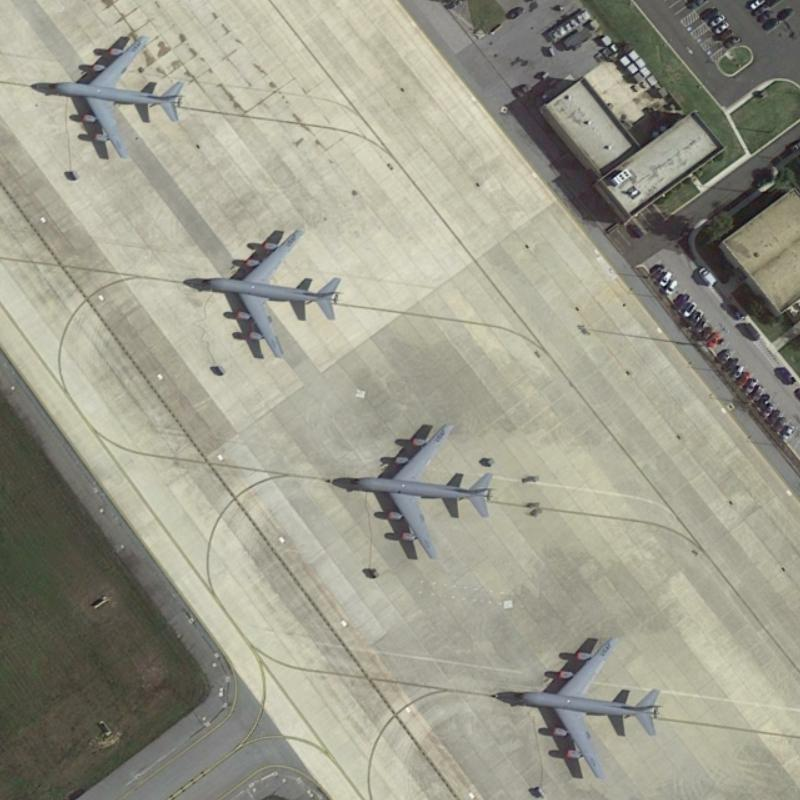A14: (506, 632, 665, 780), (339, 420, 498, 565), (195, 222, 348, 364), (36, 29, 189, 164)
